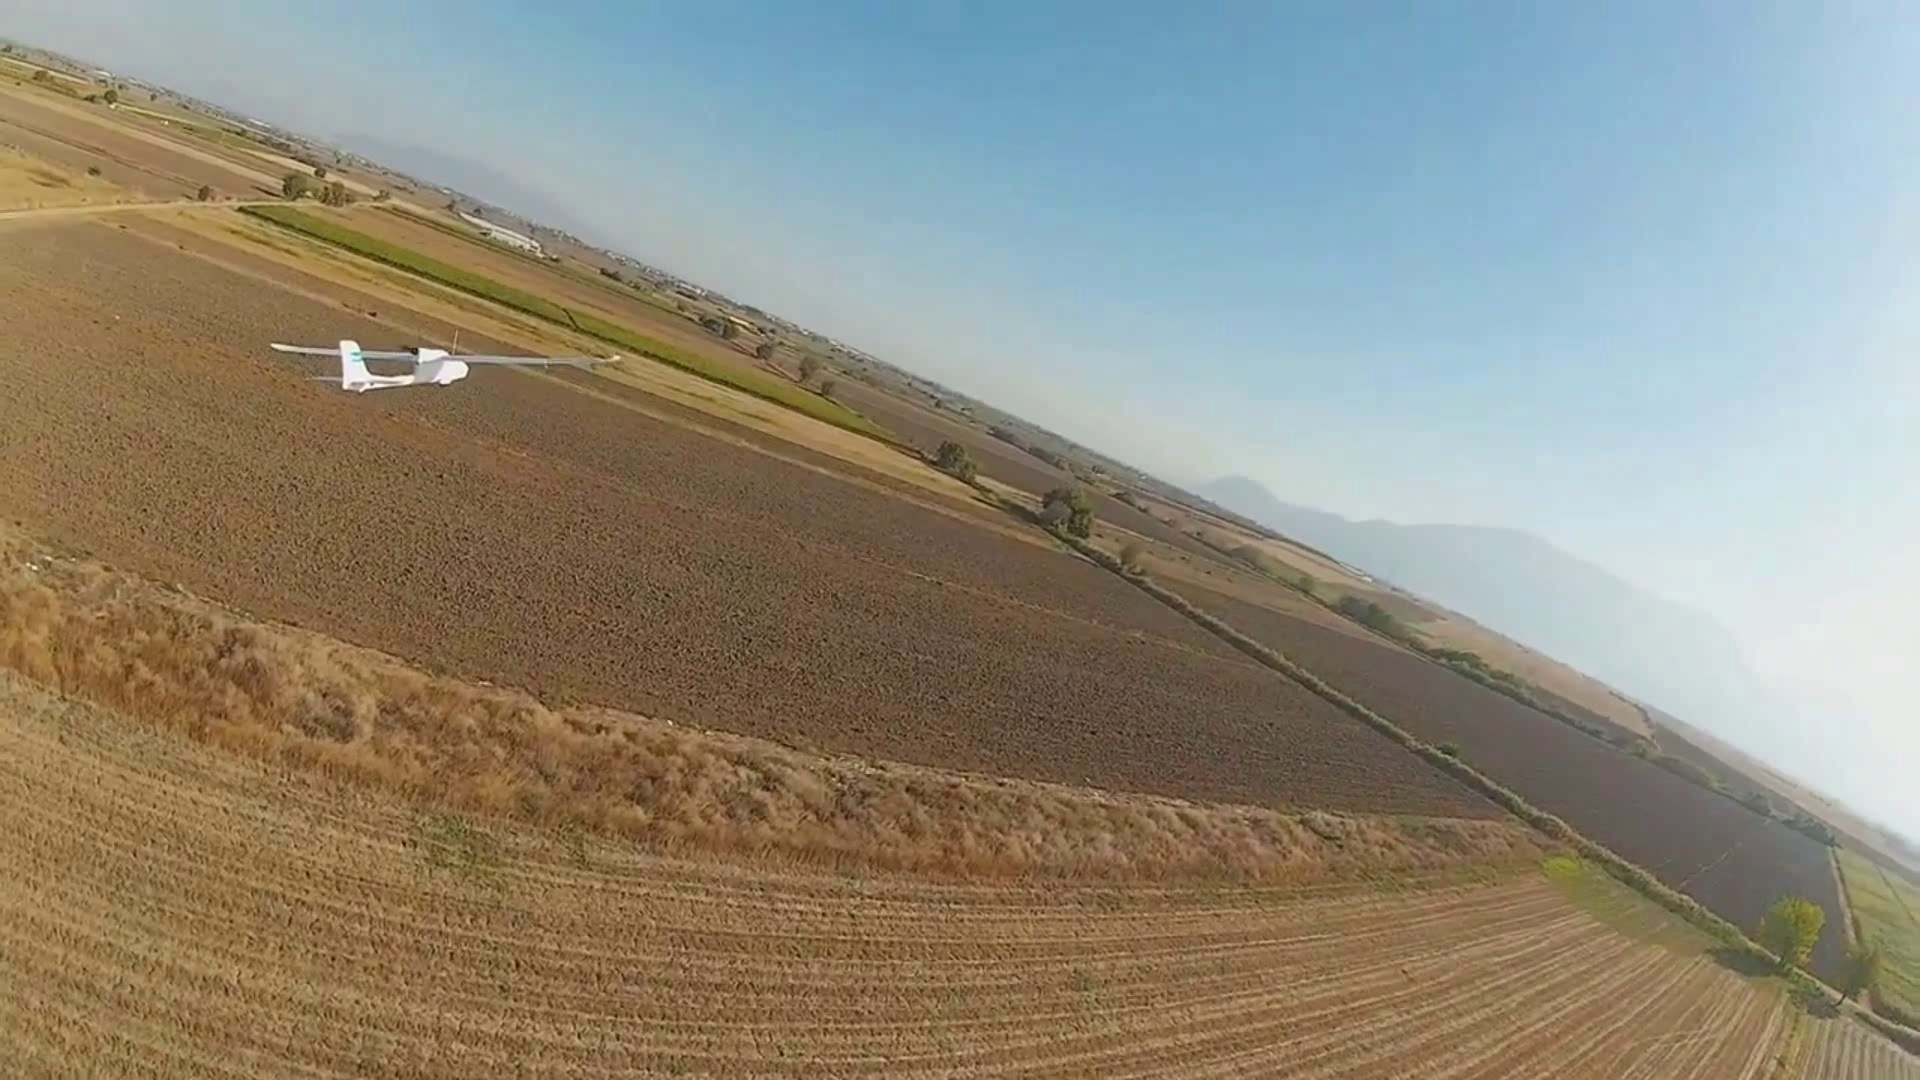airplane: (267, 337, 469, 391)
